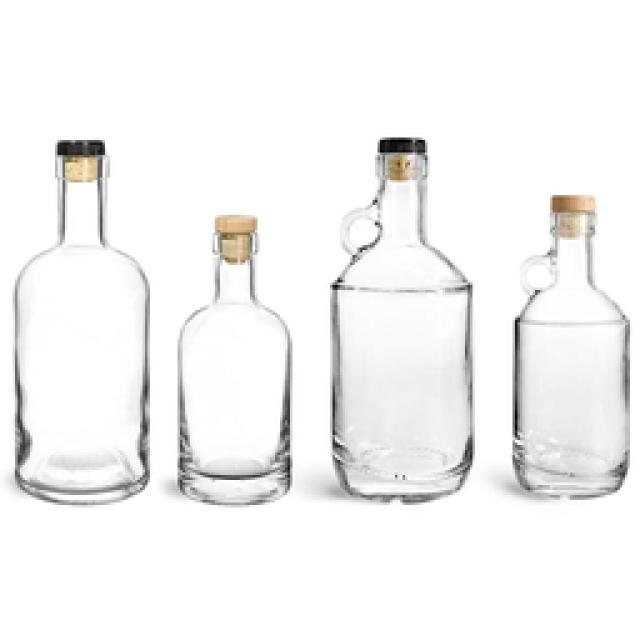glass_beverage_bottles: (337, 138, 478, 502), (17, 134, 152, 504), (510, 190, 635, 503), (176, 210, 296, 500)
